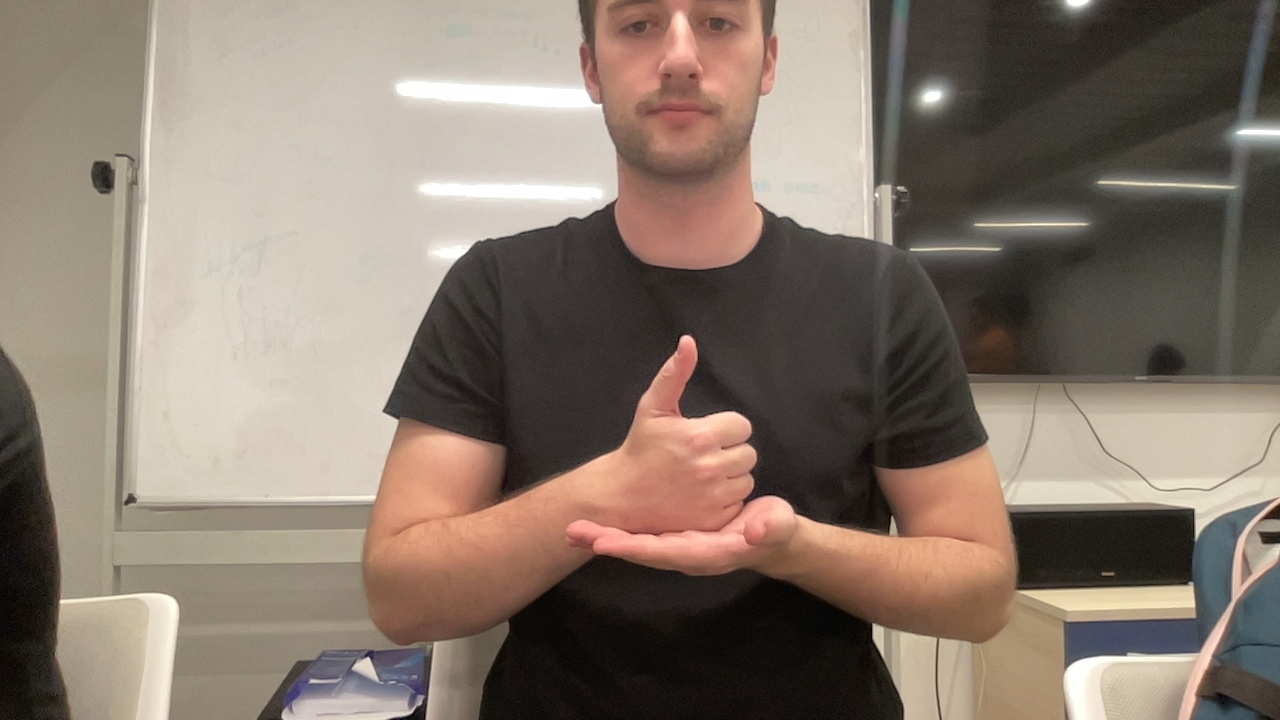Help: (563, 328, 797, 581)
